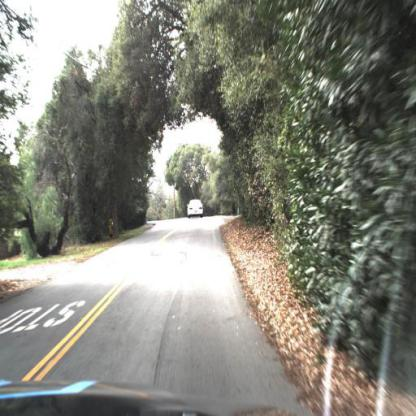car: (185, 193, 209, 229)
